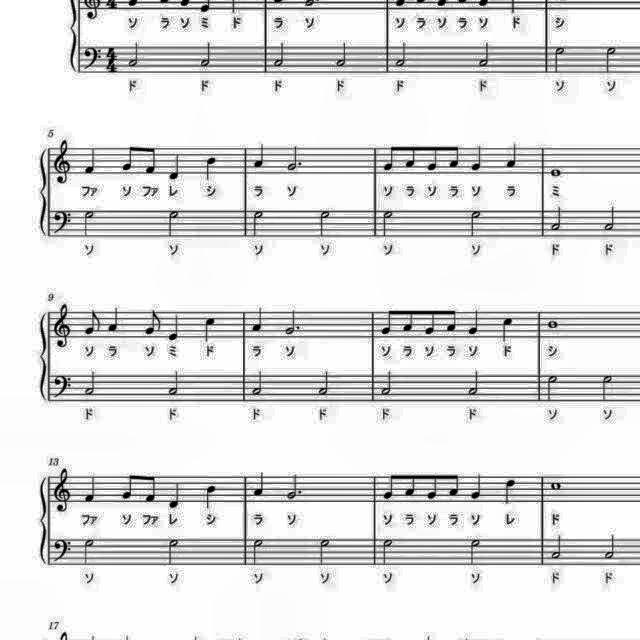Bass-clef: (52, 206, 76, 236), (52, 370, 76, 400), (52, 537, 76, 567), (84, 42, 105, 72)
Eighth-note: (142, 307, 164, 337), (84, 307, 105, 337), (119, 470, 137, 502), (376, 304, 394, 336), (120, 143, 138, 175), (399, 304, 416, 336), (424, 470, 441, 502), (142, 144, 158, 178), (422, 305, 438, 337), (424, 142, 440, 174), (404, 140, 420, 172), (142, 472, 158, 504), (378, 142, 394, 174), (378, 470, 394, 502), (404, 471, 420, 502), (447, 470, 463, 500), (444, 306, 460, 334), (448, 144, 462, 172)
Full-note: (549, 478, 565, 494), (548, 165, 566, 179), (546, 317, 562, 331)
Half-dot: (284, 142, 304, 174), (282, 304, 302, 336), (284, 470, 304, 502)
Half-note: (476, 40, 496, 72), (548, 532, 568, 564), (600, 202, 620, 234), (596, 372, 616, 404), (600, 532, 620, 564), (543, 372, 561, 404), (165, 536, 183, 568), (465, 208, 483, 240), (166, 208, 184, 240), (318, 208, 336, 240), (551, 44, 569, 76), (334, 40, 352, 72), (468, 538, 486, 570), (198, 40, 216, 72), (603, 46, 621, 78), (126, 39, 144, 70), (379, 536, 396, 568), (379, 209, 396, 241), (249, 369, 267, 399), (549, 203, 567, 233), (393, 41, 411, 71), (166, 368, 184, 398), (376, 366, 394, 396), (467, 366, 485, 396), (80, 208, 96, 240), (80, 536, 96, 568), (318, 537, 334, 569), (250, 208, 266, 240), (250, 536, 266, 568), (271, 40, 289, 68), (318, 366, 334, 396), (82, 369, 98, 399)
Quarter-note: (83, 472, 101, 506), (82, 146, 101, 178), (167, 150, 185, 182), (167, 480, 185, 512), (464, 306, 482, 338), (467, 472, 485, 504), (248, 305, 266, 335), (497, 315, 515, 345), (166, 312, 184, 342), (501, 476, 519, 506), (106, 305, 122, 335), (250, 142, 266, 172), (250, 469, 266, 499), (506, 142, 522, 172), (202, 315, 218, 345), (468, 144, 484, 174), (203, 482, 219, 511), (204, 154, 220, 182)
Treble-clef: (52, 302, 76, 353), (52, 137, 76, 187), (52, 468, 76, 516)
